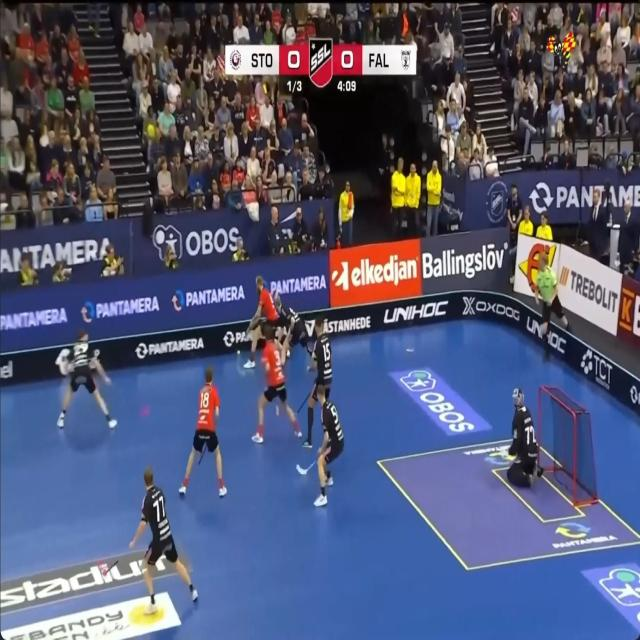Balls: (236, 349, 240, 354)
player: (130, 467, 197, 613), (179, 367, 226, 497), (252, 324, 301, 443), (57, 331, 117, 428), (303, 317, 332, 447), (534, 252, 569, 357), (507, 388, 543, 487), (314, 385, 343, 507), (244, 275, 279, 368), (274, 295, 309, 362)
stick: (296, 387, 314, 414), (296, 460, 316, 474), (101, 561, 118, 575), (247, 316, 261, 333), (197, 444, 206, 464), (305, 344, 313, 355), (275, 404, 278, 415)
